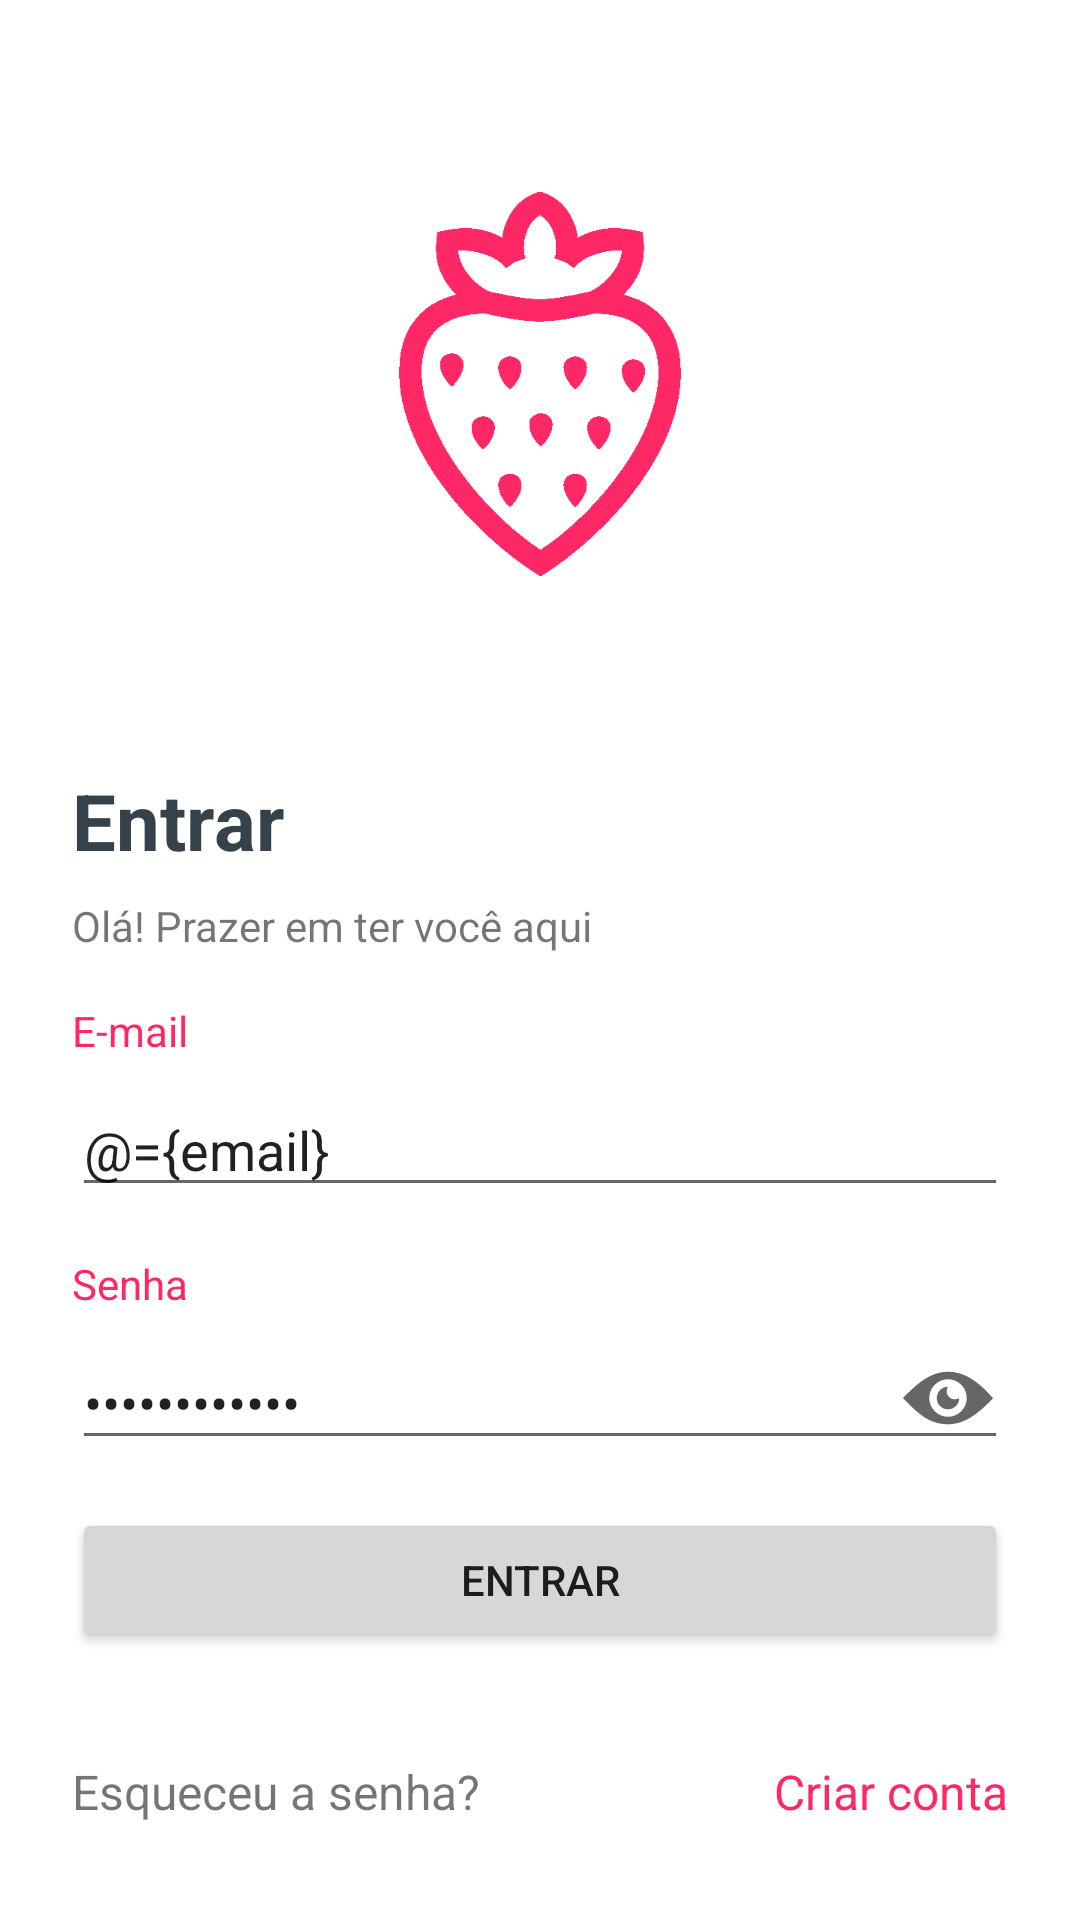

Point at icon controls on the screen. Image size 1080 x 1920, points as [x,y].
eye: [948,1398]
